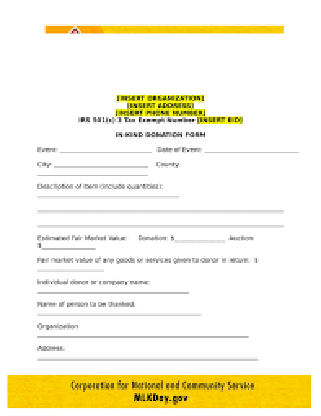textline: (34, 215, 290, 232), (34, 202, 289, 215), (36, 351, 261, 364), (36, 330, 251, 341), (34, 308, 204, 320), (202, 140, 303, 157), (36, 285, 191, 295), (34, 168, 153, 181), (38, 191, 183, 201), (57, 142, 153, 157), (51, 160, 150, 171), (34, 266, 109, 276), (41, 243, 98, 253), (173, 235, 225, 245)
